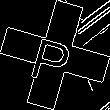P_N: (30, 26, 80, 84)
